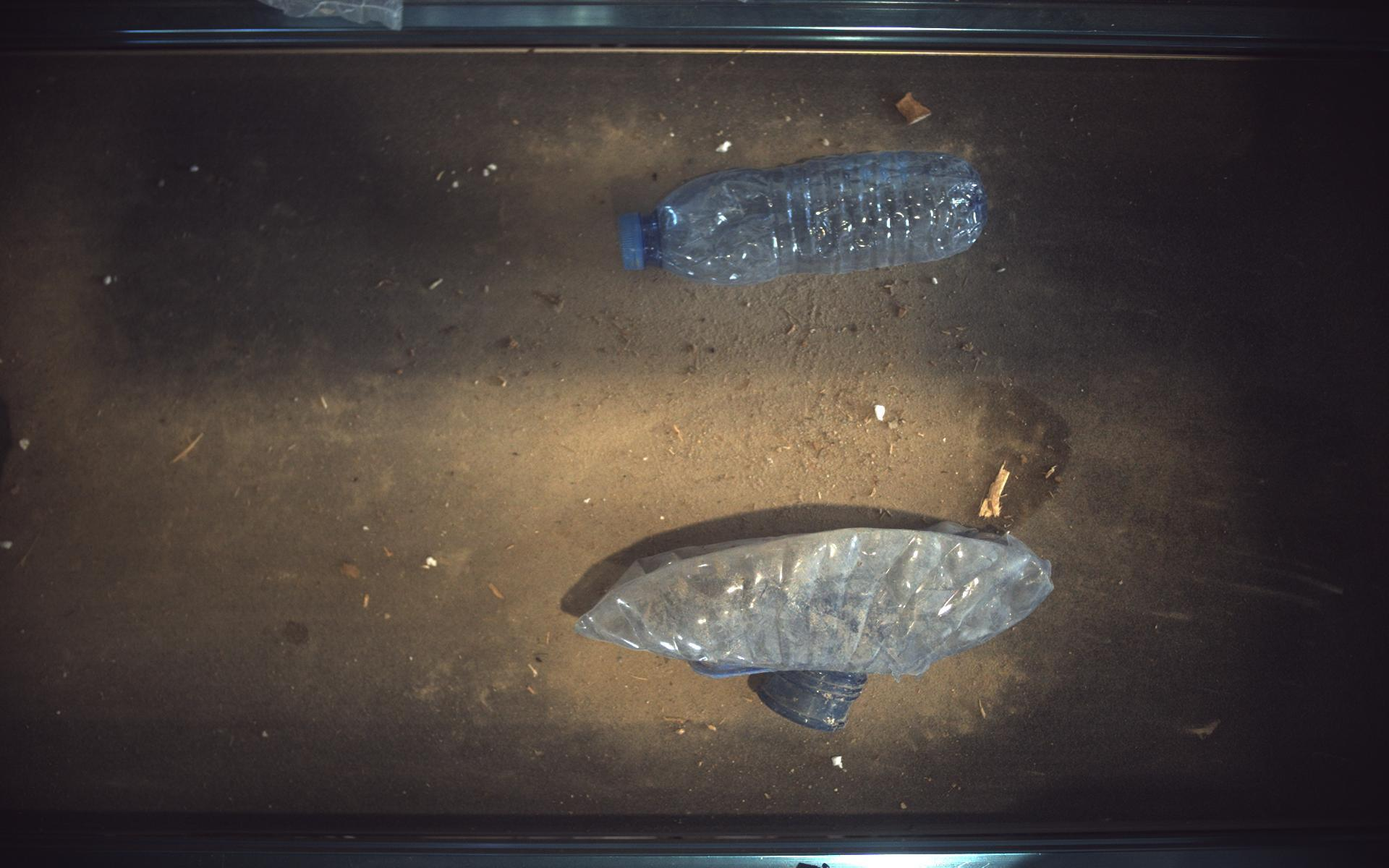general_w: (576, 524, 1055, 733), (620, 150, 990, 284)
